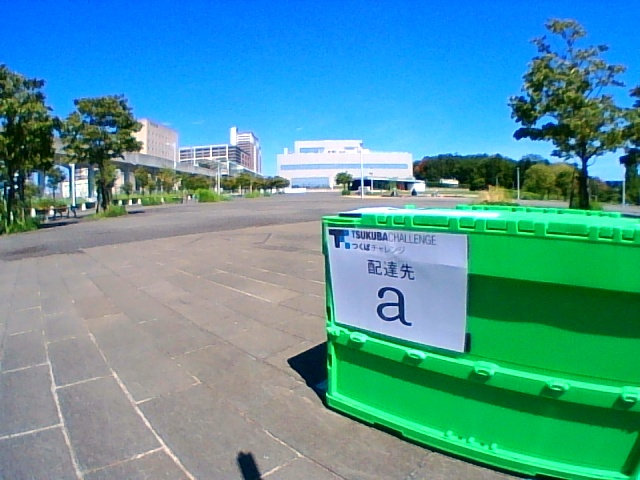green_box: (322, 204, 640, 480)
tag_a: (363, 259, 428, 328)
